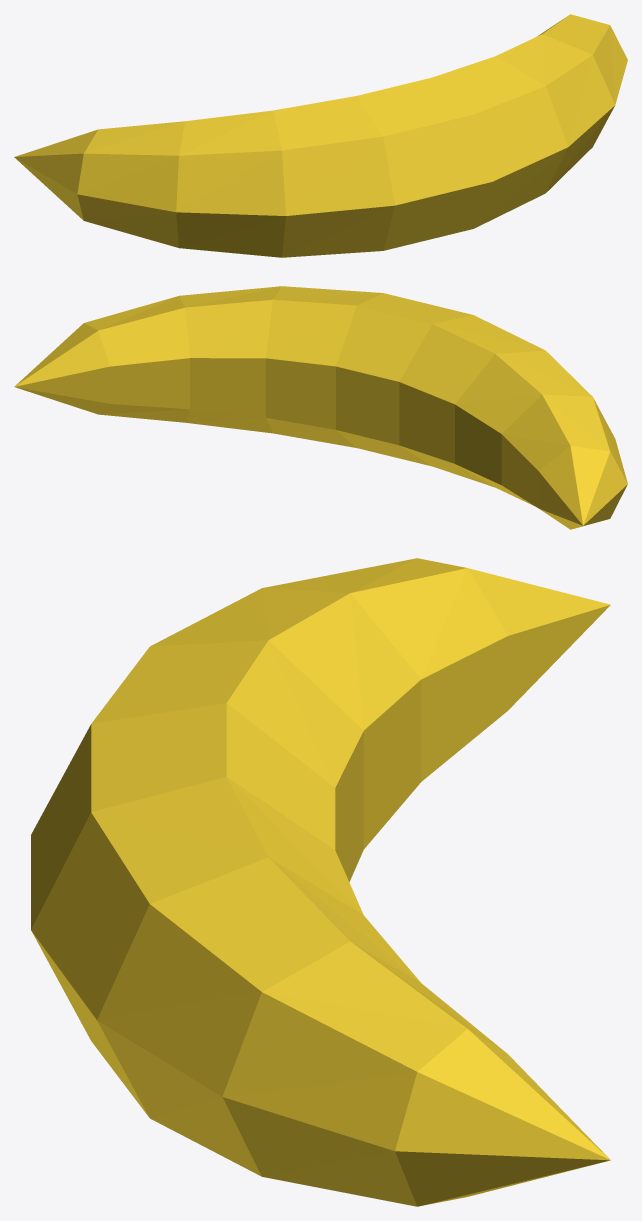
Rendered from banana.obj.
The picture shows the model from 3 angles, top to bottom: view 1: azimuth 30°, elevation 25°; view 2: azimuth 150°, elevation 25°; view 3: azimuth 270°, elevation 25°; orthographic projection. The views are drawn at different scales.
Size of the model in its own units: 1.13 by 0.2709 by 0.4995.
